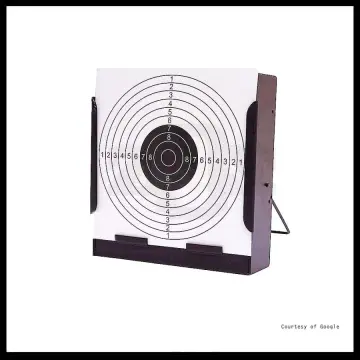target: (97, 71, 248, 245)
